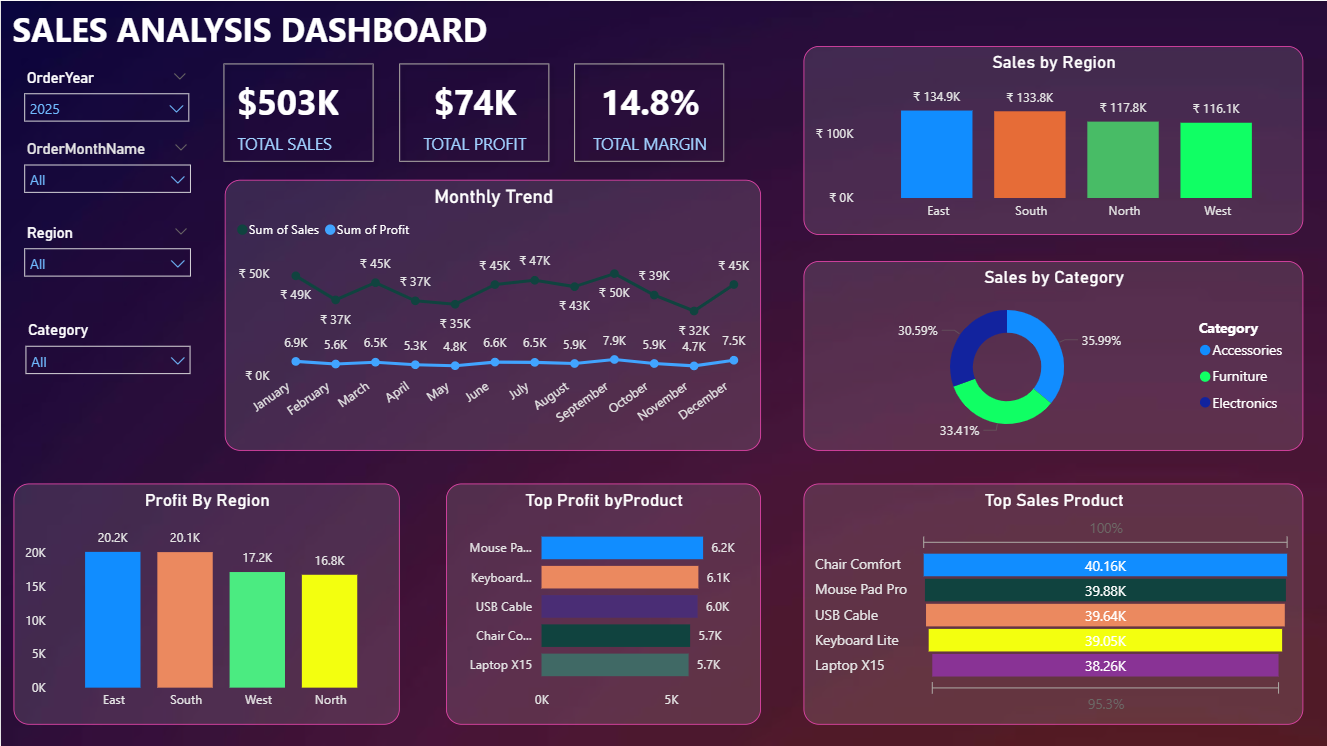

What the dashboard file says about the page in this screenshot:
{"tool":"powerbi","page":{"name":"Page 1","canvas":[1280,720],"ordinal":0},"visuals":[{"type":"textbox","box":[6,0,470.5,60.3],"z":0},{"type":"cardVisual","fields":{"Data":["CleanedData.TOTAL SALES","CleanedData.TOTAL PROFIT","CleanedData.TOTAL MARGIN"]},"box":[197.9,43.4,517.6,129.1],"z":1000},{"type":"donutChart","title":" Sales by Category","fields":{"Category":["CleanedData.Category"],"Y":["Sum(CleanedData.Sales)"]},"box":[774.5,250.9,482.6,183.4],"z":2000},{"type":"barChart","title":"Top Profit byProduct","fields":{"Category":["CleanedData.Product"],"Y":["Sum(CleanedData.Profit)"]},"box":[429.5,465.7,304,232.8],"z":3000},{"type":"clusteredColumnChart","title":"Profit By Region","fields":{"Category":["CleanedData.Region"],"Y":["Sum(CleanedData.Profit)"]},"box":[12.1,465.7,372.8,232.8],"z":4000},{"type":"funnel","title":"Top Sales Product","fields":{"Y":["Sum(CleanedData.Sales)"],"Category":["CleanedData.Product"]},"box":[774.5,465.7,482.6,232.8],"z":5000},{"type":"slicer","fields":{"Values":["CleanedData.Category"]},"box":[13.3,304,179.8,63.9],"z":6000},{"type":"slicer","fields":{"Values":["CleanedData.Region"]},"box":[12.1,209.9,181,66.4],"z":7000},{"type":"slicer","fields":{"Values":["CleanedData.OrderMonthName"]},"box":[12.1,129.1,181,62.7],"z":8000},{"type":"columnChart","title":" Sales by Region","fields":{"Category":["CleanedData.Region"],"Y":["Sum(CleanedData.Sales)"]},"box":[775,43.8,482.5,182.5],"z":9000},{"type":"lineChart","title":"Monthly Trend","fields":{"Y":["Sum(CleanedData.Sales)","Sum(CleanedData.Profit)"],"Category":["CleanedData.OrderMonthYear.Variation.Date Hierarchy.Month"]},"box":[216,172.5,517.6,261.8],"z":10000},{"type":"slicer","fields":{"Values":["CleanedData.OrderYear"]},"box":[12.1,60.3,179.8,60.3],"z":11000}]}

Visuals, with their boxes in screenshot pixels (x1, y1, x2, y2), scaled from the page's 1280x720 canvas onto the 1327x746 screenshot:
textbox: crop(6, 0, 494, 62)
cardVisual - CleanedData.TOTAL SALES x CleanedData.TOTAL PROFIT: crop(205, 45, 742, 179)
" Sales by Category" donutChart: crop(803, 260, 1303, 450)
"Top Profit byProduct" barChart: crop(445, 483, 760, 724)
"Profit By Region" clusteredColumnChart: crop(13, 483, 399, 724)
"Top Sales Product" funnel: crop(803, 483, 1303, 724)
slicer - CleanedData.Category: crop(14, 315, 200, 381)
slicer - CleanedData.Region: crop(13, 217, 200, 286)
slicer - CleanedData.OrderMonthName: crop(13, 134, 200, 199)
" Sales by Region" columnChart: crop(803, 45, 1304, 234)
"Monthly Trend" lineChart: crop(224, 179, 761, 450)
slicer - CleanedData.OrderYear: crop(13, 62, 199, 125)
